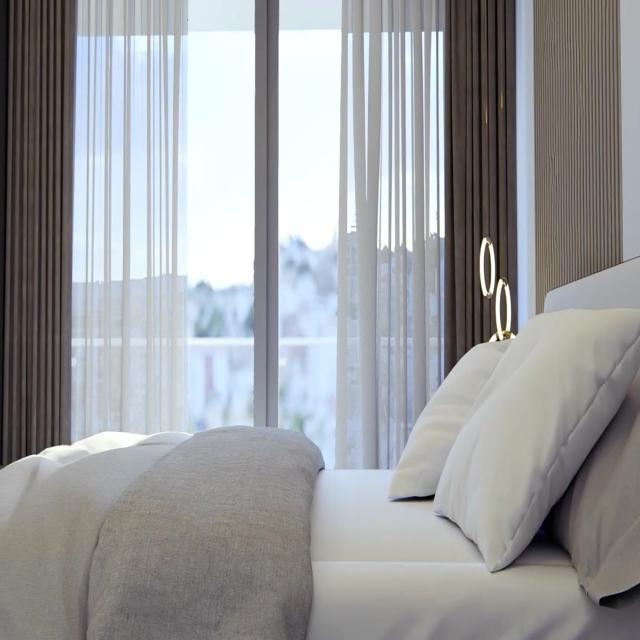obstacle: (1, 254, 639, 638)
